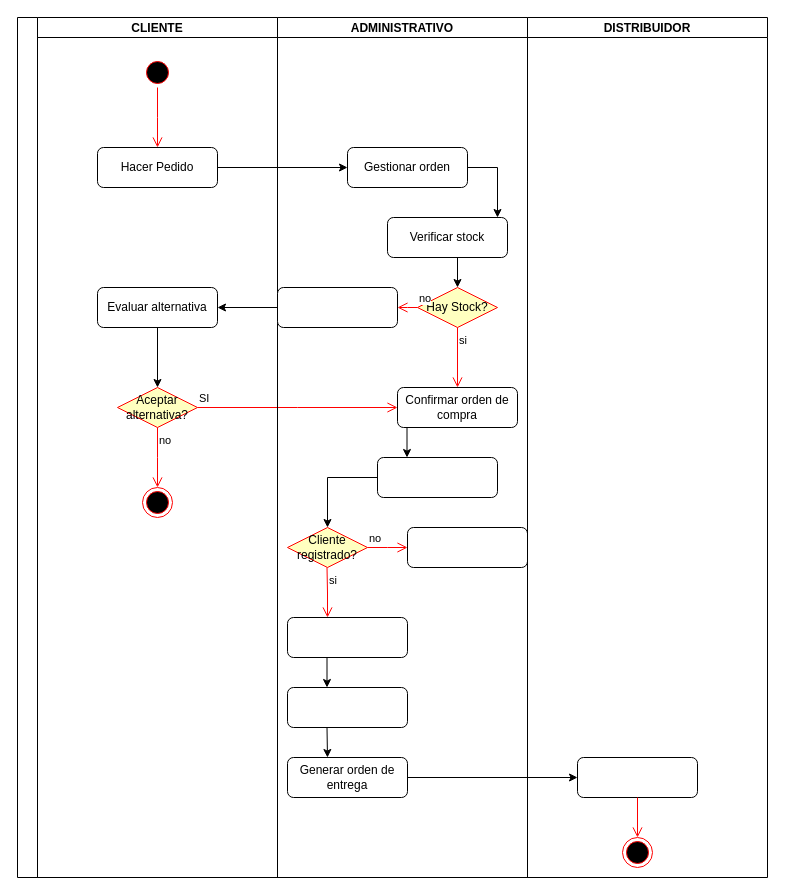
Some shapes in this 785 by 895 pixel diagram are drawn without their labels. The shapes that lost their labels are listed below. From the top down, each one's box as (x1, y1, x2, y2) in pixels, then its label:
(276, 286, 398, 328): Recomendar alternativa
(376, 456, 498, 498): Verificar cliente
(406, 526, 528, 568): Registrar cliente
(286, 616, 408, 658): Realizar cobranza
(286, 686, 408, 728): Generar factura
(576, 756, 698, 798): Gestionar orden de entrega
